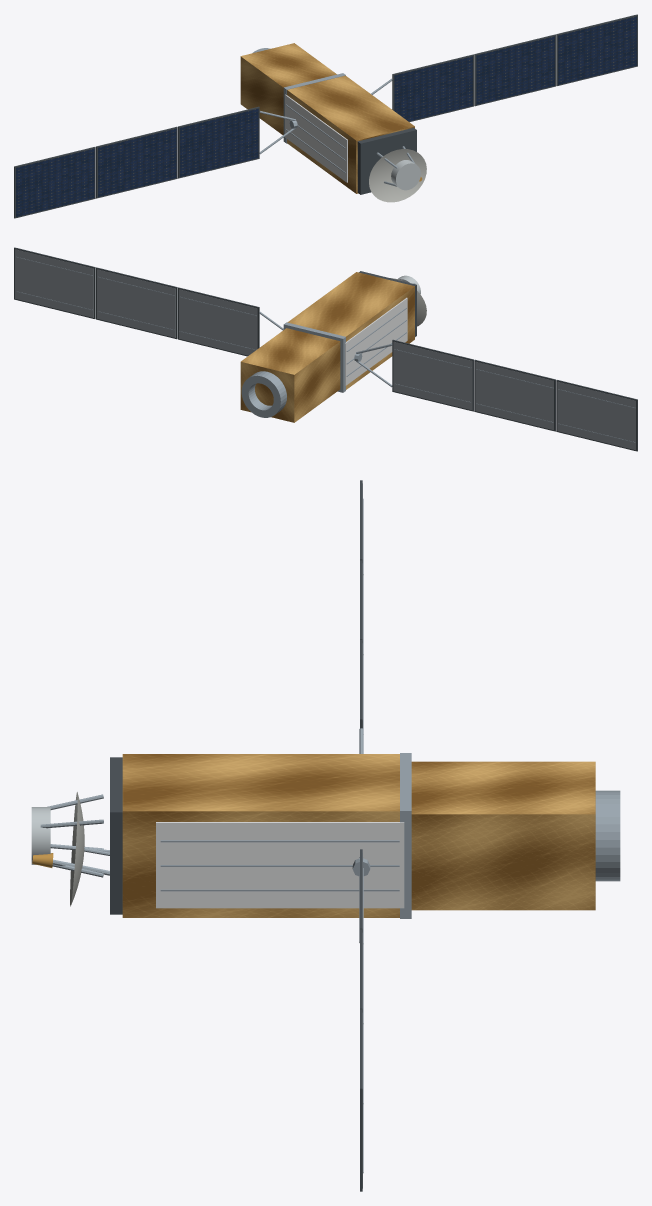
File: ref-dfh-3-23415.glb
The picture shows the model from 3 angles, top to bottom: view 1: azimuth 30°, elevation 25°; view 2: azimuth 150°, elevation 25°; view 3: azimuth 270°, elevation 25°; orthographic projection. The views are drawn at different scales.
Visible parts, largest first — view 1: Solar cell panel (×6), Payload module, Service module, Solar panel frame (×6), Radiator face, Earth-facing deck, Deck-mounted reflector, Antenna tower platform, Module interface; view 2: Rear array substrate (×6), Service module, Payload module, Solar panel frame (×6), Radiator face, Launch adapter ring, Module interface; view 3: Service module, Payload module, Radiator face, Launch adapter ring, Earth-facing deck, Module interface, Deck-mounted reflector.
Boxes of the visible parts, box(x1,y1,x2,y2) form: Solar cell panel (×6): box(16, 16, 636, 217); Payload module: box(287, 75, 414, 193); Service module: box(240, 43, 336, 134); Solar panel frame (×6): box(14, 14, 637, 218); Radiator face: box(285, 94, 347, 182); Earth-facing deck: box(357, 127, 416, 194); Deck-mounted reflector: box(369, 149, 426, 202); Antenna tower platform: box(391, 160, 420, 190); Module interface: box(283, 73, 345, 143); Rear array substrate (×6): box(15, 249, 635, 450); Service module: box(240, 328, 340, 422); Payload module: box(287, 272, 414, 389); Solar panel frame (×6): box(14, 247, 637, 451); Radiator face: box(345, 297, 407, 385); Launch adapter ring: box(241, 371, 286, 417); Module interface: box(283, 322, 345, 392); Service module: box(411, 761, 595, 910); Payload module: box(122, 754, 399, 917); Radiator face: box(156, 822, 404, 908); Launch adapter ring: box(595, 790, 620, 881); Earth-facing deck: box(110, 757, 122, 914); Module interface: box(400, 753, 411, 918); Deck-mounted reflector: box(70, 792, 84, 906).
Size of the model in its own units: 18.08 by 1.63 by 7.39.
Materials: 9 (2 with a texture image).
